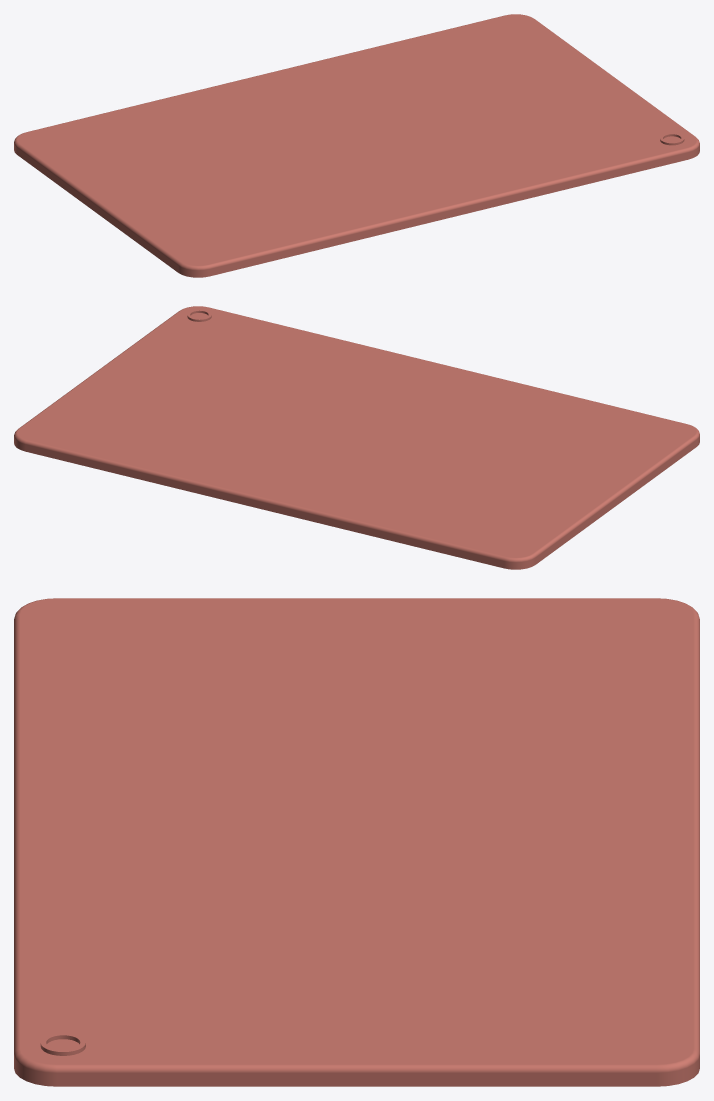
The model's file is PL38 0008 full.glb.
The picture shows the model from 3 angles, top to bottom: view 1: azimuth 30°, elevation 25°; view 2: azimuth 150°, elevation 25°; view 3: azimuth 270°, elevation 25°; orthographic projection. The views are drawn at different scales.
Parts seen in each view (by area): view 1: PL38 0008 full; view 2: PL38 0008 full; view 3: PL38 0008 full.
Part boxes in pixels (box(x1,y1,x2,y2)): PL38 0008 full: box(14, 14, 699, 277); PL38 0008 full: box(14, 306, 699, 569); PL38 0008 full: box(14, 598, 699, 1086).
Size of the model in its own units: 26 by 0.6001 by 16.
